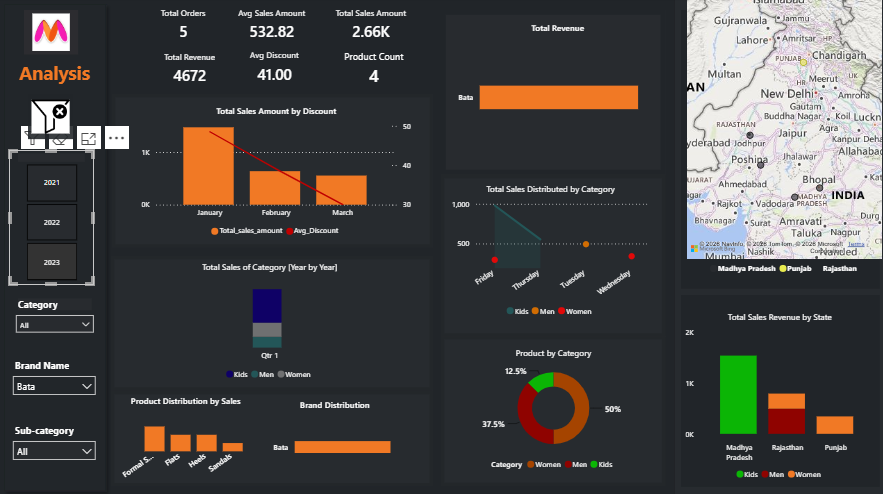

The dashboard page shown, as its layout file describes it:
{"tool":"powerbi","page":{"name":"Main","canvas":[1280,720],"ordinal":0},"visuals":[{"type":"shape","box":[975.5,0,304.9,719.4],"z":0},{"type":"shape","box":[975.1,0,304.9,719.4],"z":1000},{"type":"shape","box":[975.1,0.6,304.9,719.4],"z":2000},{"type":"shape","box":[975.1,0.6,304.9,719.4],"z":3000},{"type":"shape","box":[975.5,0,304.9,719.4],"z":4000},{"type":"shape","box":[1,1,164.6,719.4],"z":5000},{"type":"shape","box":[975.1,0.6,304.9,719.4],"z":6000},{"type":"shape","box":[975.1,0.6,304.9,719.4],"z":7000},{"type":"shape","box":[975.1,0.6,304.9,719.4],"z":8000},{"type":"shape","box":[975.1,0.6,304.9,719.4],"z":9000},{"type":"shape","box":[975.1,0.6,304.9,719.4],"z":10000},{"type":"shape","box":[975.1,0.6,304.9,719.4],"z":11000},{"type":"shape","box":[975.1,0.6,304.9,719.4],"z":12000},{"type":"shape","box":[975.1,0.6,304.9,719.4],"z":13000},{"type":"shape","box":[975.1,0.6,304.9,719.4],"z":14000},{"type":"shape","box":[975.1,0.6,304.9,719.4],"z":15000},{"type":"shape","box":[975.1,0.6,304.9,719.4],"z":16000},{"type":"shape","box":[975.1,0.6,304.9,719.4],"z":17000},{"type":"shape","box":[975.1,0.6,304.9,719.4],"z":18000},{"type":"shape","box":[975.1,0.6,304.9,719.4],"z":19000},{"type":"shape","box":[975.1,0.6,304.9,719.4],"z":20000},{"type":"shape","box":[975.1,0.6,304.9,719.4],"z":21000},{"type":"shape","box":[975.1,0.6,304.9,719.4],"z":22000},{"type":"shape","box":[975.1,0.6,304.9,719.4],"z":23000},{"type":"shape","box":[975.1,0.6,304.9,719.4],"z":24000},{"type":"shape","box":[975.1,0.6,304.9,719.4],"z":25000},{"type":"shape","box":[975.1,0.6,304.9,719.4],"z":26000},{"type":"shape","box":[975.1,0.6,304.9,719.4],"z":27000},{"type":"shape","box":[975.1,0.6,304.9,719.4],"z":28000},{"type":"shape","box":[975.1,0.6,304.9,719.4],"z":29000},{"type":"shape","box":[975.1,0.6,304.9,719.4],"z":30000},{"type":"shape","box":[975.1,0.6,304.9,719.4],"z":31000},{"type":"shape","box":[975.1,0.6,304.9,719.4],"z":32000},{"type":"shape","box":[975.1,0.6,304.9,719.4],"z":33000},{"type":"shape","box":[975.1,0.6,304.9,719.4],"z":34000},{"type":"shape","box":[975.1,0.6,304.9,719.4],"z":35000},{"type":"shape","box":[975.1,0.6,304.9,719.4],"z":36000},{"type":"shape","box":[975.1,0.6,304.9,719.4],"z":37000},{"type":"shape","box":[975.1,0.6,304.9,719.4],"z":38000},{"type":"shape","box":[975.1,0.6,304.9,719.4],"z":39000},{"type":"shape","box":[975.1,0.6,304.9,719.4],"z":40000},{"type":"shape","box":[975.1,0.6,304.9,719.4],"z":41000},{"type":"shape","box":[975.1,0.6,304.9,719.4],"z":42000},{"type":"shape","box":[975.1,0.6,304.9,719.4],"z":43000},{"type":"shape","box":[975.1,0.6,304.9,719.4],"z":44000},{"type":"shape","box":[975.1,0.6,304.9,719.4],"z":45000},{"type":"shape","box":[975.1,0.6,304.9,719.4],"z":46000},{"type":"shape","box":[975.1,0.6,304.9,719.4],"z":47000},{"type":"shape","box":[975.1,0.6,304.9,719.4],"z":48000},{"type":"shape","box":[975.1,0.6,304.9,719.4],"z":49000},{"type":"shape","box":[975.1,0.6,304.9,719.4],"z":50000},{"type":"shape","box":[975.1,0.6,304.9,719.4],"z":51000},{"type":"shape","box":[975.1,0.6,304.9,719.4],"z":52000},{"type":"shape","box":[975.1,0.6,304.9,719.4],"z":53000},{"type":"shape","box":[975.1,0.6,304.9,719.4],"z":54000},{"type":"shape","box":[975.1,0.6,304.9,719.4],"z":55000},{"type":"shape","box":[975.1,0.6,304.9,719.4],"z":56000},{"type":"shape","box":[975.1,0.6,304.9,719.4],"z":57000},{"type":"shape","box":[985.1,428.8,285.9,276.3],"z":58000},{"type":"shape","box":[639.7,18.9,323,237],"z":59000},{"type":"shape","box":[985.1,19.1,285.9,401.4],"z":60000},{"type":"shape","box":[164.6,567.3,463.5,137.4],"z":61000},{"type":"shape","box":[639.7,488.7,323,216],"z":62000},{"type":"shape","box":[165.7,139.5,462.5,221.3],"z":63000},{"type":"shape","box":[639.7,255.9,323,232.8],"z":64000},{"type":"shape","box":[164.6,373.3,463.5,194],"z":65000},{"type":"textbox","box":[13.6,84.9,139.5,54.5],"z":66000},{"type":"slicer","title":"Category","fields":{"Values":["Date_table.Year"]},"box":[17.8,220.2,121.6,194],"z":67000},{"type":"card","title":"Total Orders","fields":{"Values":["Measures_Table.Total_orders"]},"box":[211.8,14.7,113.3,56.6],"z":68000},{"type":"card","title":"Avg Discount","fields":{"Values":["Measures_Table.Avg_Discount"]},"box":[334.3,75.5,131.1,59.8],"z":69000},{"type":"card","title":"Avg Sales Amount","fields":{"Values":["Measures_Table.Avg_sales_amount"]},"box":[325.1,14.7,140.5,56.6],"z":70000},{"type":"card","title":"Total Sales Amount","fields":{"Values":["Measures_Table.Total_sales_amount"]},"box":[471.1,14.7,135.3,56.6],"z":71000},{"type":"card","title":"Total Revenue","fields":{"Values":["Measures_Table.Sum_original_price"]},"box":[220.2,77.6,114.3,56.6],"z":72000},{"type":"card","title":"Product Count","fields":{"Values":["Count(dim_products.Product Name)"]},"box":[487.6,76.6,109.1,59.8],"z":73000},{"type":"barChart","title":"Total Revenue","fields":{"Y":["Sum(fact_orders.Sales Amount)"],"Category":["dim_products.Brand Name"]},"box":[658.6,35.7,298.9,195.1],"z":74000},{"type":"columnChart","title":"Total Sales Revenue by State","fields":{"Category":["dim_customers.State"],"Y":["Sum(fact_orders.Sales Amount)"],"Series":["dim_products.Category"]},"box":[986.3,452.6,282.3,252.5],"z":75000},{"type":"donutChart","title":"Product by Category","fields":{"Y":["CountNonNull(dim_products.Product ID)"],"Category":["dim_products.Category"]},"box":[658.6,503.4,286.3,186.7],"z":76000},{"type":"barChart","title":"Brand Distribution","fields":{"Category":["dim_products.Brand Name"],"Y":["CountNonNull(dim_products.Brand Name)"]},"box":[392.2,578.9,189.8,115.4],"z":77000},{"type":"lineStackedColumnComboChart","title":"Total Sales Amount by Discount","fields":{"Category":["Date_table.Month_NAME"],"Y":["Measures_Table.Total_sales_amount"],"Y2":["Measures_Table.Avg_Discount"]},"box":[202.4,155.2,398.5,199.2],"z":78000},{"type":"ribbonChart","title":"Total Sales of Category [Year by Year]","fields":{"Category":["Date_table.Date.Variation.Date Hierarchy.Year","Date_table.Date.Variation.Date Hierarchy.Quarter","Date_table.Date.Variation.Date Hierarchy.Month","Date_table.Date.Variation.Date Hierarchy.Day"],"Y":["Measures_Table.Total_sales_amount"],"Series":["dim_products.Category"]},"box":[190.9,379.6,402.7,180.4],"z":79000},{"type":"columnChart","title":"Product Distribution by Sales","fields":{"Category":["dim_products.Product Name"],"Y":["CountNonNull(dim_products.Product Name)"]},"box":[168.8,573.6,206.6,132.1],"z":80000},{"type":"areaChart","title":"Total Sales Distributed by Category","fields":{"Category":["Date_table.Day of Week"],"Y":["Measures_Table.Total_sales_amount"],"Series":["dim_products.Category"]},"box":[649.1,267.4,295.7,201.3],"z":81000},{"type":"map","fields":{"Category":["dim_customers.City"],"Series":["dim_customers.State"],"Size":["Measures_Table.Total_orders"]},"box":[989.9,0,290.5,409],"z":82000},{"type":"slicer","title":"Brand Name","fields":{"Values":["dim_products.Brand Name"]},"box":[13.6,517,139.5,79.7],"z":83000},{"type":"slicer","title":"Category","fields":{"Values":["dim_products.Category"]},"box":[17.8,428.9,132.1,73.4],"z":84000},{"type":"slicer","title":"Sub-Category","fields":{"Values":["dim_products.Sub-category"]},"box":[13.6,610.3,139.5,79.7],"z":85000},{"type":"image","box":[45.1,139.5,65,65],"z":86000},{"type":"image","box":[38.8,18.9,77.6,64],"z":87000}]}

Visuals, with their boxes on the page's 1280x720 design canvas (x1, y1, x2, y2). These are canvas units, not pixel positions in the 883x494 screenshot, which may show the page scaled, cropped or inside an application window:
shape: l=976, t=0, r=1280, b=719
shape: l=975, t=0, r=1280, b=719
shape: l=975, t=1, r=1280, b=720
shape: l=975, t=1, r=1280, b=720
shape: l=976, t=0, r=1280, b=719
shape: l=1, t=1, r=166, b=720
shape: l=975, t=1, r=1280, b=720
shape: l=975, t=1, r=1280, b=720
shape: l=975, t=1, r=1280, b=720
shape: l=975, t=1, r=1280, b=720
shape: l=975, t=1, r=1280, b=720
shape: l=975, t=1, r=1280, b=720
shape: l=975, t=1, r=1280, b=720
shape: l=975, t=1, r=1280, b=720
shape: l=975, t=1, r=1280, b=720
shape: l=975, t=1, r=1280, b=720
shape: l=975, t=1, r=1280, b=720
shape: l=975, t=1, r=1280, b=720
shape: l=975, t=1, r=1280, b=720
shape: l=975, t=1, r=1280, b=720
shape: l=975, t=1, r=1280, b=720
shape: l=975, t=1, r=1280, b=720
shape: l=975, t=1, r=1280, b=720
shape: l=975, t=1, r=1280, b=720
shape: l=975, t=1, r=1280, b=720
shape: l=975, t=1, r=1280, b=720
shape: l=975, t=1, r=1280, b=720
shape: l=975, t=1, r=1280, b=720
shape: l=975, t=1, r=1280, b=720
shape: l=975, t=1, r=1280, b=720
shape: l=975, t=1, r=1280, b=720
shape: l=975, t=1, r=1280, b=720
shape: l=975, t=1, r=1280, b=720
shape: l=975, t=1, r=1280, b=720
shape: l=975, t=1, r=1280, b=720
shape: l=975, t=1, r=1280, b=720
shape: l=975, t=1, r=1280, b=720
shape: l=975, t=1, r=1280, b=720
shape: l=975, t=1, r=1280, b=720
shape: l=975, t=1, r=1280, b=720
shape: l=975, t=1, r=1280, b=720
shape: l=975, t=1, r=1280, b=720
shape: l=975, t=1, r=1280, b=720
shape: l=975, t=1, r=1280, b=720
shape: l=975, t=1, r=1280, b=720
shape: l=975, t=1, r=1280, b=720
shape: l=975, t=1, r=1280, b=720
shape: l=975, t=1, r=1280, b=720
shape: l=975, t=1, r=1280, b=720
shape: l=975, t=1, r=1280, b=720
shape: l=975, t=1, r=1280, b=720
shape: l=975, t=1, r=1280, b=720
shape: l=975, t=1, r=1280, b=720
shape: l=975, t=1, r=1280, b=720
shape: l=975, t=1, r=1280, b=720
shape: l=975, t=1, r=1280, b=720
shape: l=975, t=1, r=1280, b=720
shape: l=975, t=1, r=1280, b=720
shape: l=985, t=429, r=1271, b=705
shape: l=640, t=19, r=963, b=256
shape: l=985, t=19, r=1271, b=420
shape: l=165, t=567, r=628, b=705
shape: l=640, t=489, r=963, b=705
shape: l=166, t=140, r=628, b=361
shape: l=640, t=256, r=963, b=489
shape: l=165, t=373, r=628, b=567
textbox: l=14, t=85, r=153, b=139
"Category" slicer: l=18, t=220, r=139, b=414
"Total Orders" card: l=212, t=15, r=325, b=71
"Avg Discount" card: l=334, t=76, r=465, b=135
"Avg Sales Amount" card: l=325, t=15, r=466, b=71
"Total Sales Amount" card: l=471, t=15, r=606, b=71
"Total Revenue" card: l=220, t=78, r=334, b=134
"Product Count" card: l=488, t=77, r=597, b=136
"Total Revenue" barChart: l=659, t=36, r=958, b=231
"Total Sales Revenue by State" columnChart: l=986, t=453, r=1269, b=705
"Product by Category" donutChart: l=659, t=503, r=945, b=690
"Brand Distribution" barChart: l=392, t=579, r=582, b=694
"Total Sales Amount by Discount" lineStackedColumnComboChart: l=202, t=155, r=601, b=354
"Total Sales of Category [Year by Year]" ribbonChart: l=191, t=380, r=594, b=560
"Product Distribution by Sales" columnChart: l=169, t=574, r=375, b=706
"Total Sales Distributed by Category" areaChart: l=649, t=267, r=945, b=469
map - dim_customers.City x dim_customers.State: l=990, t=0, r=1280, b=409
"Brand Name" slicer: l=14, t=517, r=153, b=597
"Category" slicer: l=18, t=429, r=150, b=502
"Sub-Category" slicer: l=14, t=610, r=153, b=690
image: l=45, t=140, r=110, b=204
image: l=39, t=19, r=116, b=83
